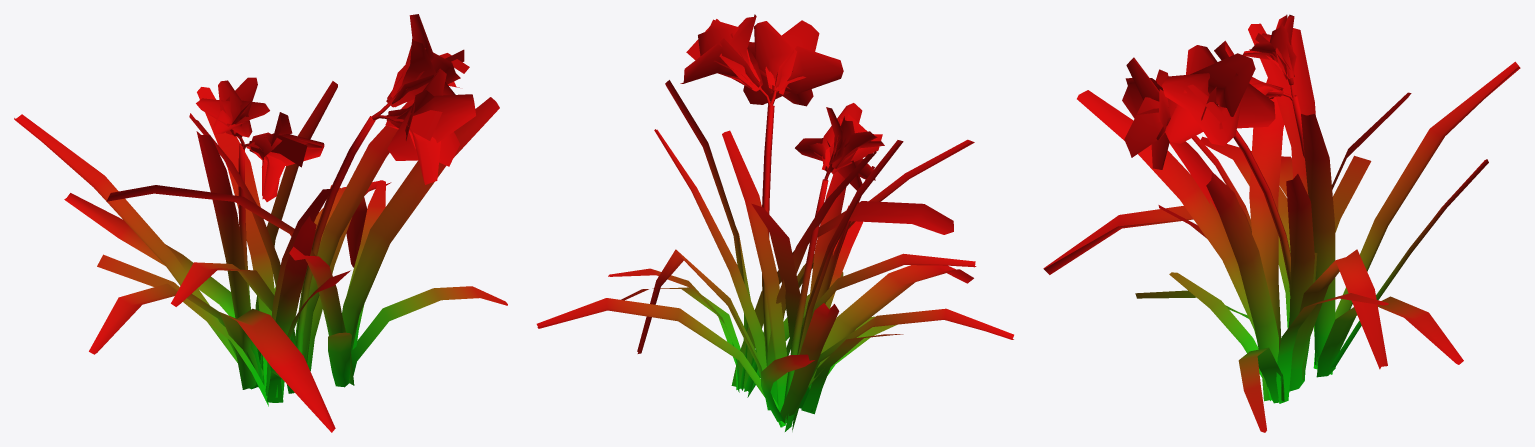
Rendered from Var5_LOD1.fbx.
3 views of the same model, side by side, from view 1: azimuth 30°, elevation 25°; view 2: azimuth 150°, elevation 25°; view 3: azimuth 270°, elevation 25° (orthographic). The views are drawn at different scales.
Parts seen in each view (by area): view 1: _82c8_Var5_LOD1; view 2: _82c8_Var5_LOD1; view 3: _82c8_Var5_LOD1.
Boxes of the visible parts, left/top/right/bottom form: _82c8_Var5_LOD1: left=14, top=14, right=507, bottom=432; _82c8_Var5_LOD1: left=536, top=14, right=1013, bottom=431; _82c8_Var5_LOD1: left=1043, top=14, right=1520, bottom=432.
Bounding box in the file's own units: 85.38 × 71.87 × 81.24.
